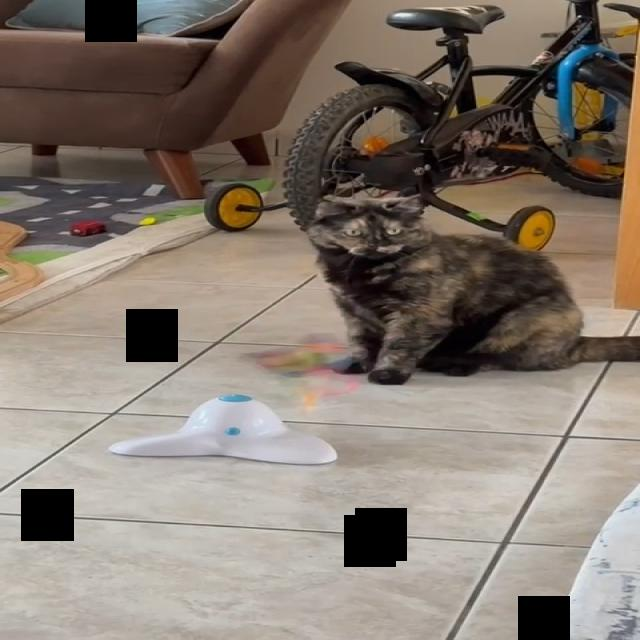authorized: (305, 192, 639, 385)
